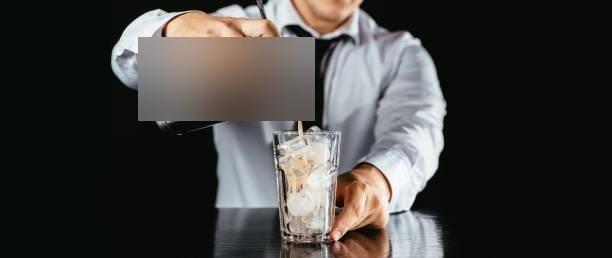glass-normal: (271, 128, 343, 243)
